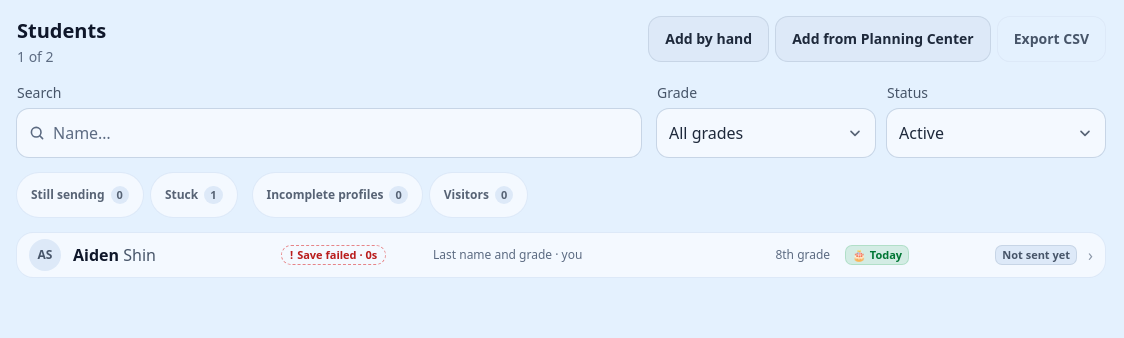
Test: the counts and the rows they filter to › counts them again when the roster is showing everybody
Select "Everyone" in the dropdown labelled "Status": (996, 133) [887, 109, 1105, 157]
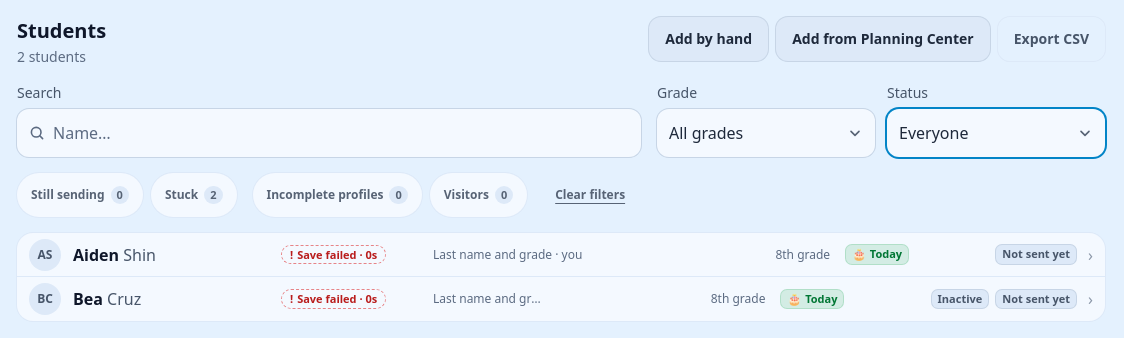
expect the button "Stuck 2" is shown: met, box [151, 173, 236, 217]
